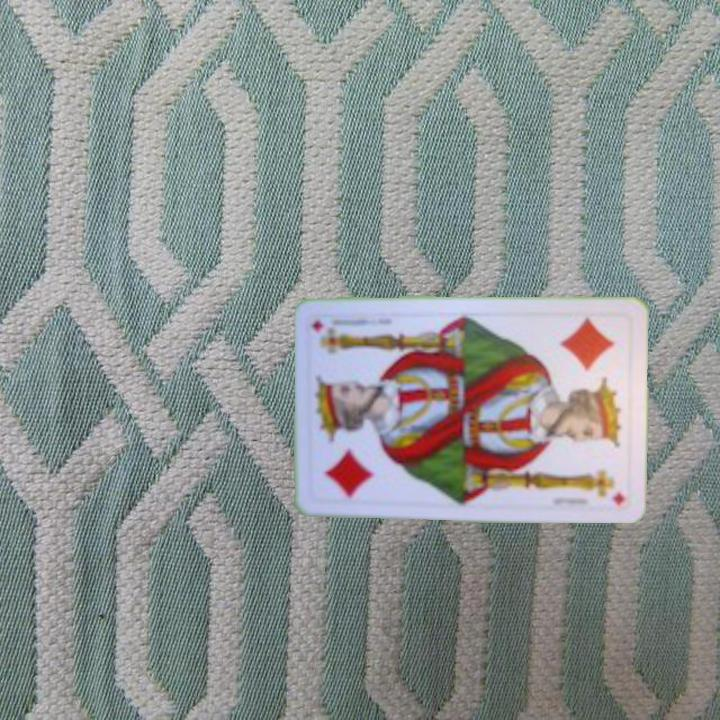d_k.png: (546, 313, 633, 413), (310, 406, 396, 506)
